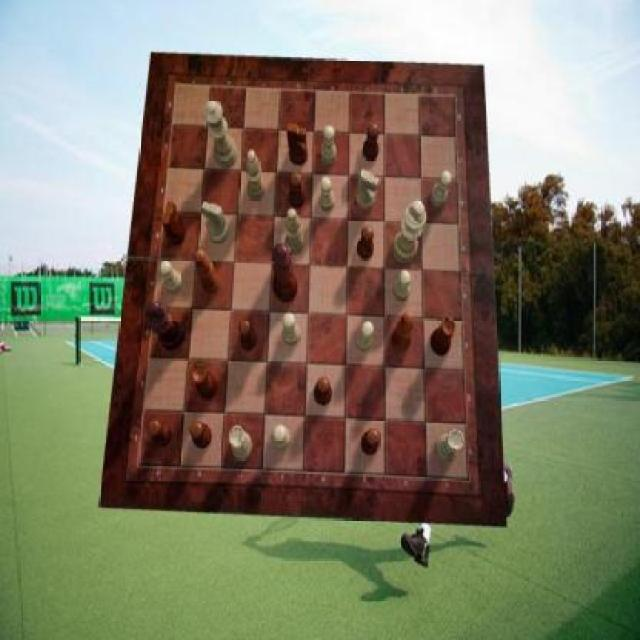bishop: (197, 249, 221, 295), (391, 311, 414, 352)
black-bishop: (144, 302, 186, 351)
black-king: (162, 201, 186, 247), (288, 123, 308, 165)
black-knight: (149, 418, 174, 448), (363, 123, 380, 162), (238, 320, 258, 352), (191, 422, 214, 449), (290, 172, 306, 210), (357, 225, 374, 259), (314, 377, 333, 406), (360, 430, 380, 456)
black-pawn: (272, 243, 298, 303)
black-queen: (190, 363, 218, 401), (432, 317, 457, 357)
black-rook: (246, 150, 266, 202), (286, 210, 306, 256)
white-bishop: (392, 198, 428, 264)
white-king: (202, 201, 228, 244), (356, 169, 380, 212)
white-knight: (158, 259, 182, 293), (431, 171, 452, 207), (322, 126, 338, 165), (282, 314, 299, 348), (394, 271, 411, 303), (355, 322, 373, 352), (320, 177, 335, 211), (271, 425, 290, 450)
white-pawn: (204, 100, 238, 168)
white-queen: (436, 431, 466, 463), (229, 426, 253, 461)
